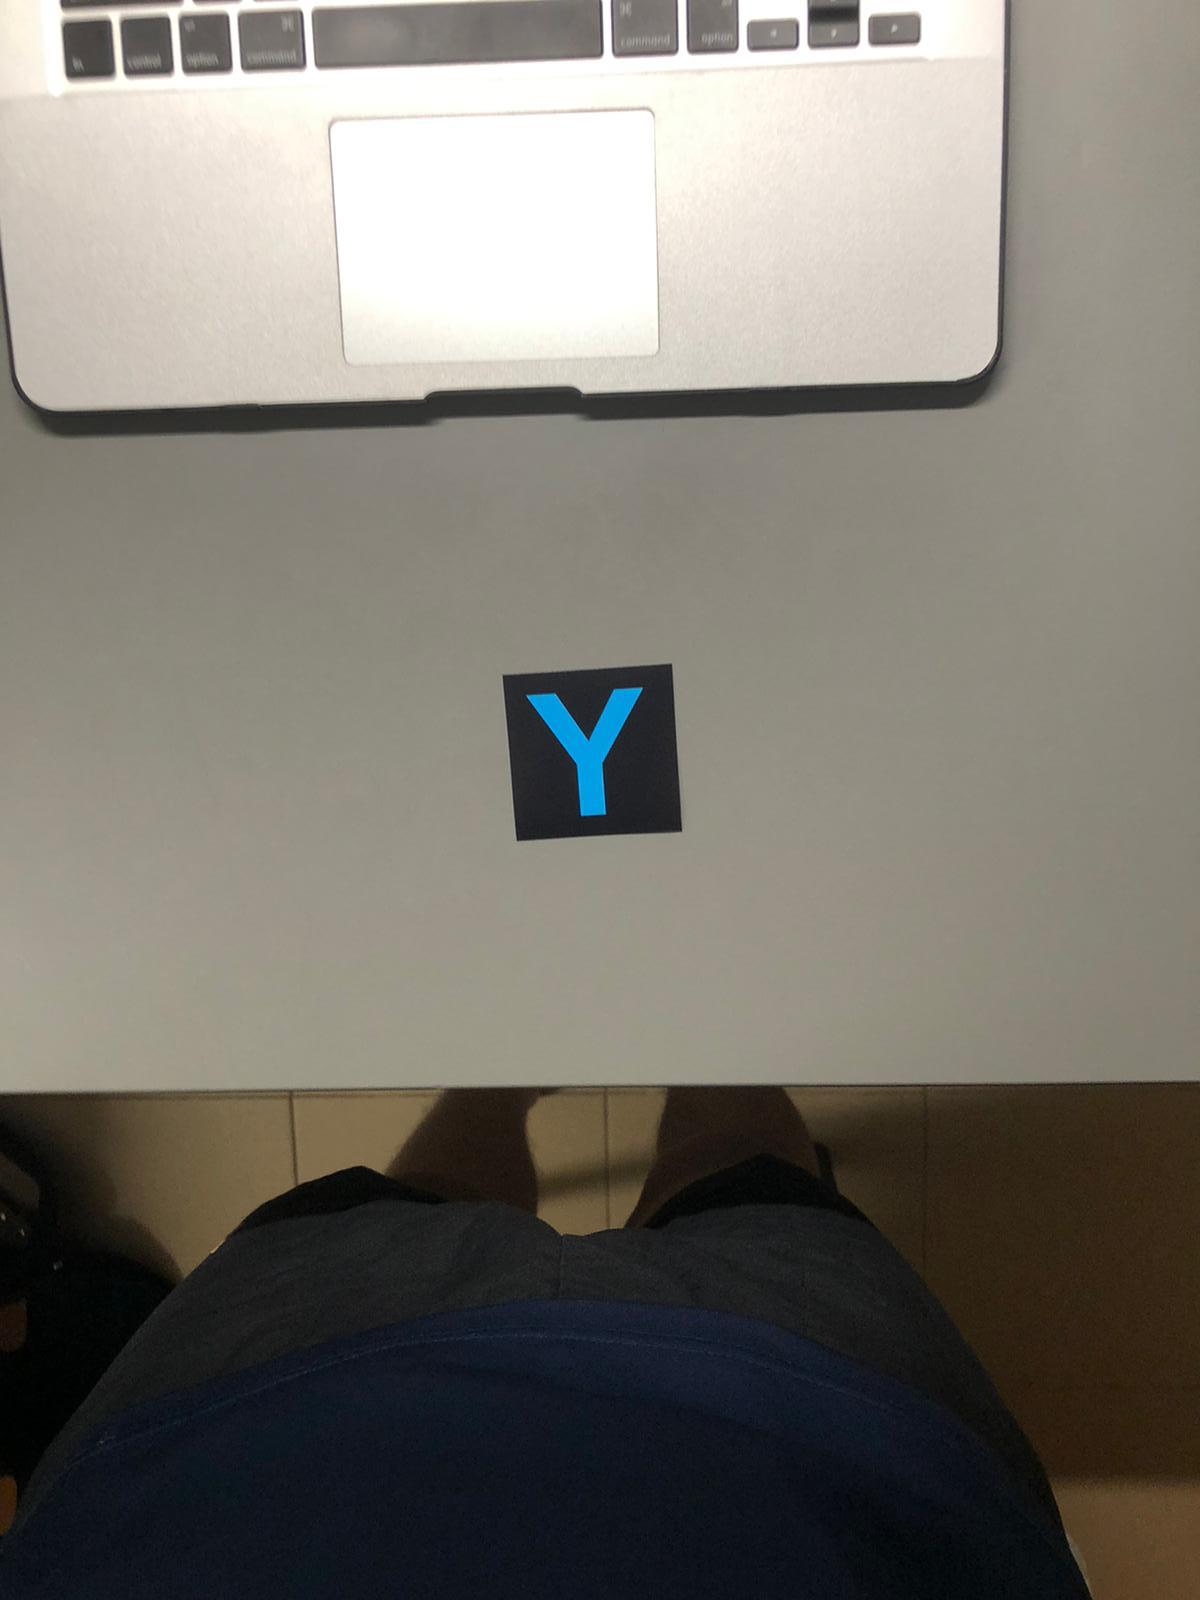Y: (500, 671, 677, 840)
